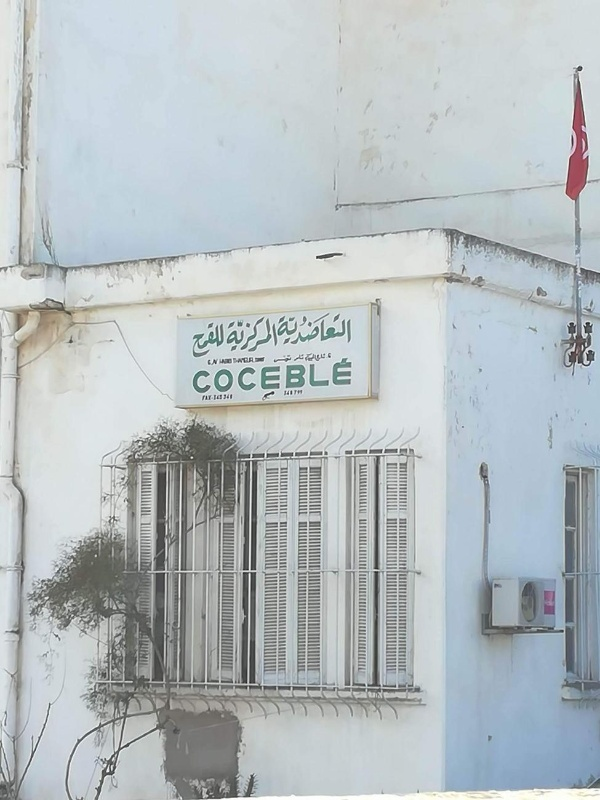text: (209, 322, 225, 360), (193, 322, 208, 360), (225, 316, 240, 353), (241, 316, 256, 353), (257, 316, 272, 353), (337, 356, 353, 389), (289, 356, 304, 389), (305, 356, 320, 389), (321, 356, 336, 389), (289, 313, 304, 346), (305, 313, 320, 346), (321, 313, 336, 346), (337, 313, 352, 346), (275, 313, 288, 346), (193, 369, 208, 394), (209, 369, 224, 394), (241, 366, 256, 391), (257, 366, 272, 391), (225, 369, 234, 394), (273, 351, 288, 365), (289, 351, 304, 365), (305, 351, 320, 365), (273, 366, 281, 391), (321, 351, 333, 365), (545, 597, 560, 608), (273, 316, 277, 353), (209, 356, 224, 365), (225, 356, 240, 365), (209, 393, 224, 402), (241, 356, 255, 365), (289, 389, 304, 396), (225, 393, 234, 402), (237, 366, 240, 391), (286, 356, 288, 389), (202, 393, 208, 402), (284, 389, 288, 396), (207, 356, 208, 365)
